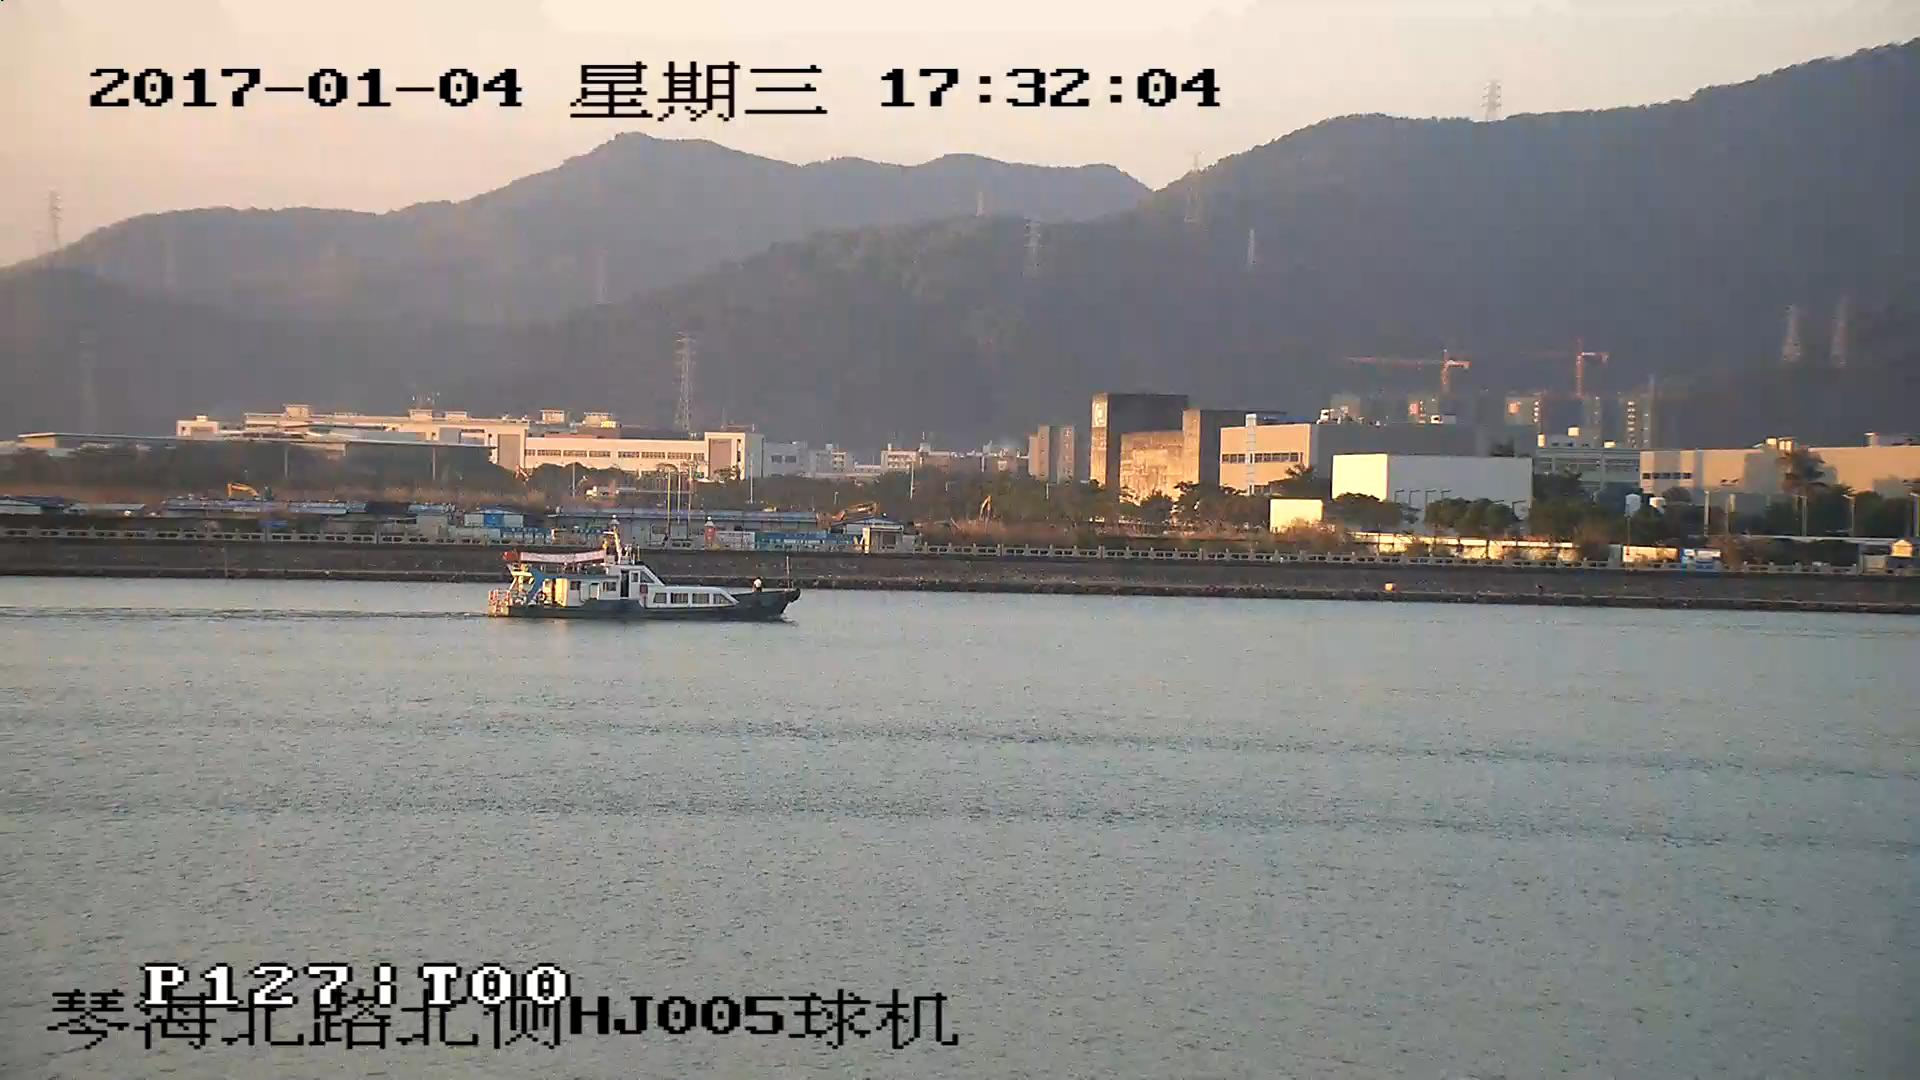fishing boat: (491, 542, 798, 623)
